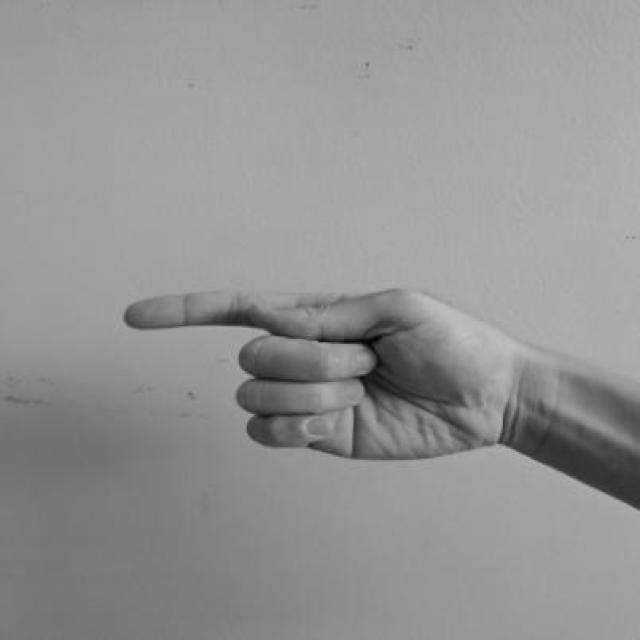G: (113, 279, 517, 469)
